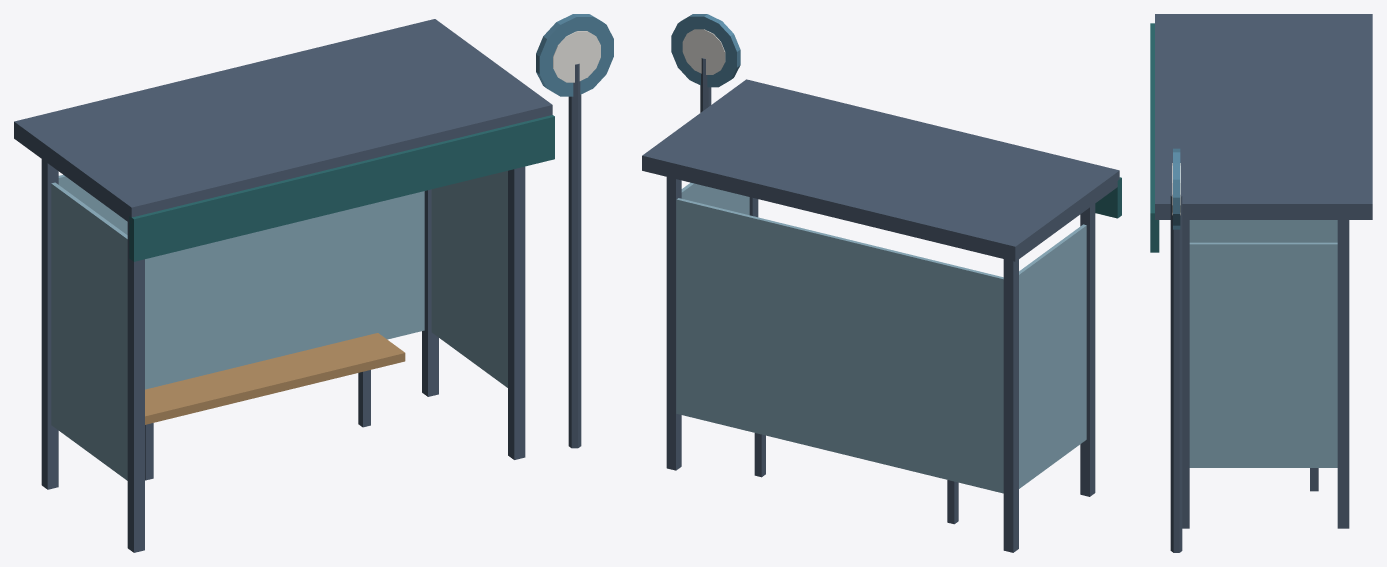
The model's file is bus_stop.glb.
The picture shows the model from 3 angles, left to right: view 1: azimuth 30°, elevation 25°; view 2: azimuth 150°, elevation 25°; view 3: azimuth 270°, elevation 25°; orthographic projection. The views are drawn at different scales.
Parts seen in each view (by area): view 1: bus_stop; view 2: bus_stop; view 3: bus_stop.
Part boxes in pixels (<box>): bus_stop: <box>14,14,613,552</box>; bus_stop: <box>642,14,1121,552</box>; bus_stop: <box>1150,14,1372,552</box>.
Size of the model in its own units: 3.62 by 3.03 by 1.53.
